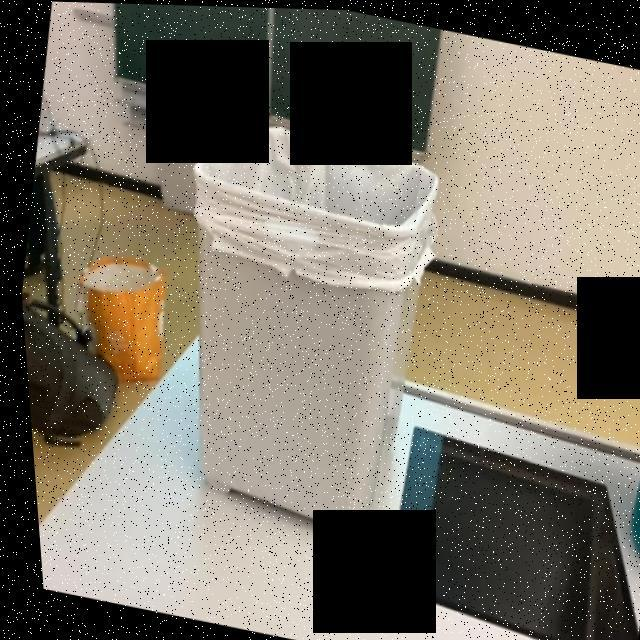bin: (111, 85, 486, 563)
